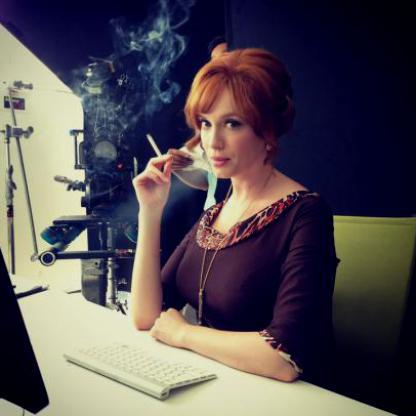cigarette: (146, 134, 162, 157)
person: (170, 49, 309, 364)
